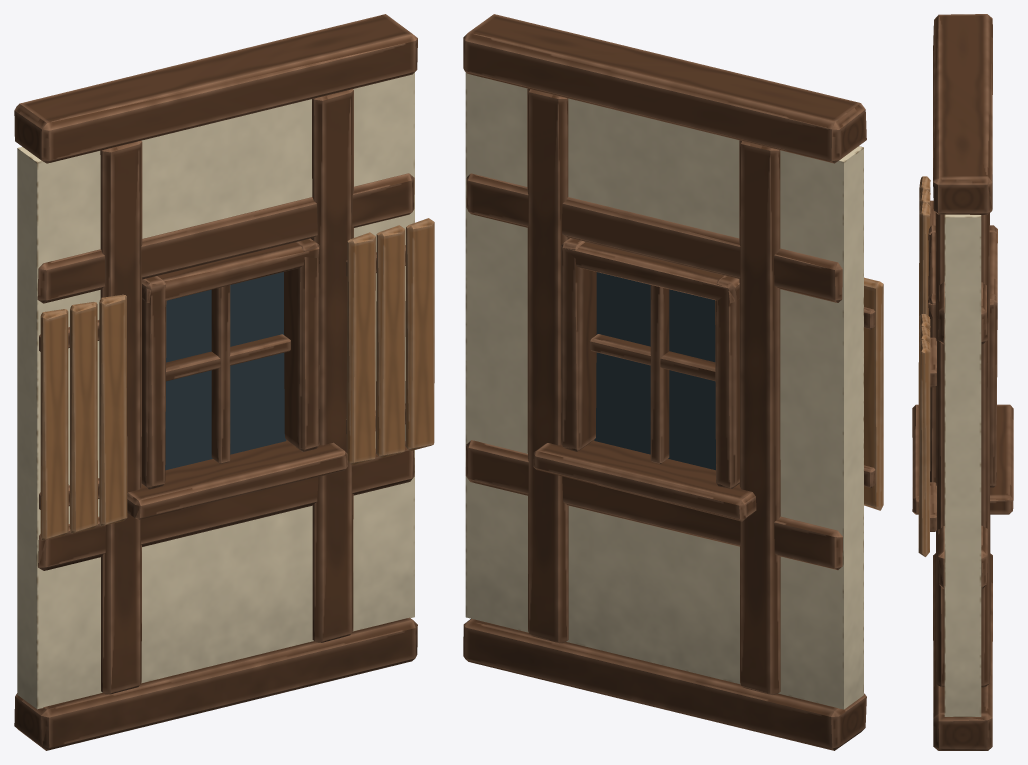
File: house_wall_window_godot.glb
3 renders of one model, left to right at view 1: azimuth 30°, elevation 25°; view 2: azimuth 150°, elevation 25°; view 3: azimuth 270°, elevation 25°, orthographic. The views are drawn at different scales.
Visible parts, largest first — view 1: house_wall_window_static; view 2: house_wall_window_static; view 3: house_wall_window_static.
Boxes of the visible parts, x1,y1,x2,y2 form: house_wall_window_static: [14, 14, 434, 750]; house_wall_window_static: [463, 14, 883, 750]; house_wall_window_static: [912, 14, 1013, 750].
Size of what is drawn, in the model's own units: 1.82 by 2.78 by 0.4448.
4 materials, 4 textured.
